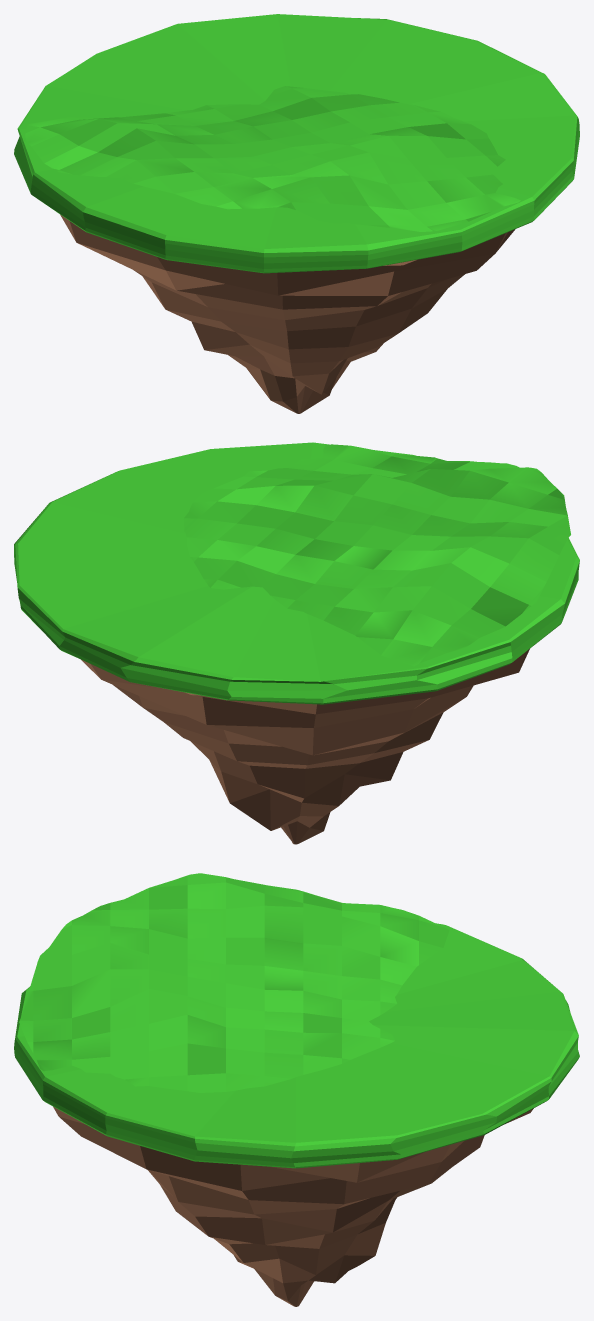
The model's file is Island (1).fbx.
3 views of the same model, one above another, from view 1: azimuth 30°, elevation 25°; view 2: azimuth 150°, elevation 25°; view 3: azimuth 270°, elevation 25° (orthographic).
Parts seen in each view (by area): view 1: ground, terrain, land; view 2: ground, terrain, land; view 3: terrain, ground, land.
Part boxes in pixels (<box>): ground: <box>14,14,579,273</box>; terrain: <box>24,86,520,231</box>; land: <box>60,214,515,413</box>; ground: <box>14,442,579,704</box>; terrain: <box>183,444,570,665</box>; land: <box>81,649,529,844</box>; terrain: <box>19,873,449,1092</box>; ground: <box>14,923,579,1168</box>; land: <box>53,1106,533,1306</box>.
Bounding box in the file's own units: 209 × 133 × 209.
